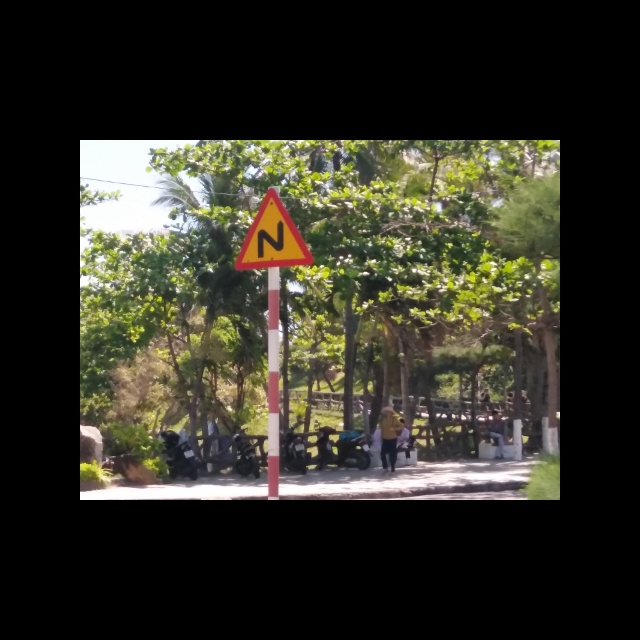Ngoặt nguy hiểm liên tiếp bên phải: (234, 188, 316, 273)
